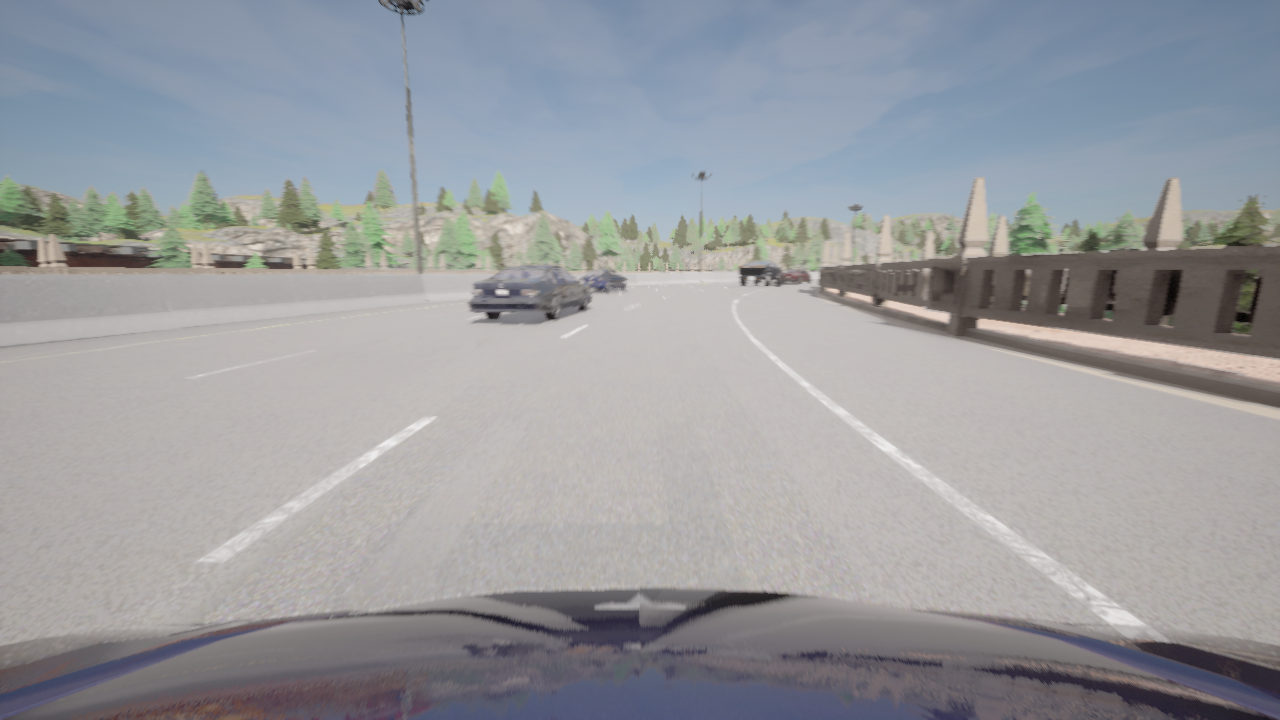cyclist: (0, 588, 1279, 719), (468, 265, 591, 320), (738, 261, 782, 286), (579, 270, 627, 292), (782, 269, 810, 283), (746, 280, 774, 283)
